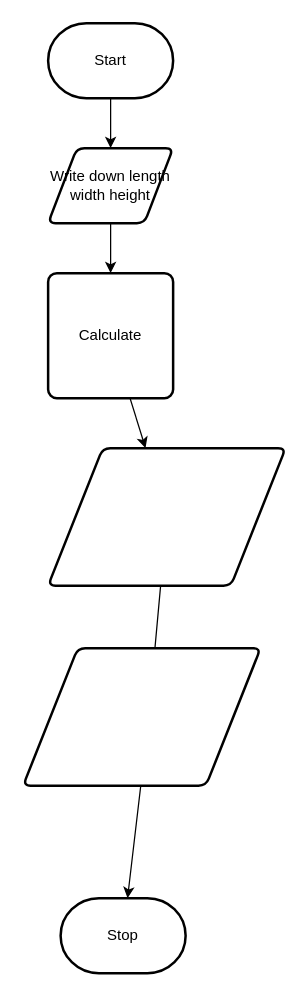
The diagram is 308 pixels wide and 995 high, and some of its shapes have lost their labels. The centre of each missing label's shape, as x and y in pixels:
talk to script.js use function to find formula: the point at 166,516
us form action to display calculations: the point at 141,716
